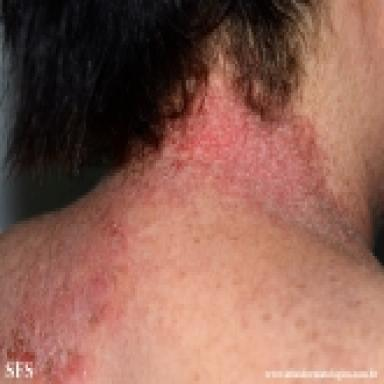Darier_s-Disease: (0, 73, 380, 373)
